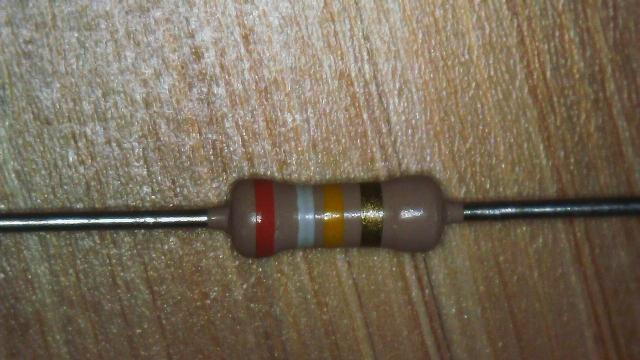gold: (360, 182, 383, 247)
orange: (255, 179, 274, 256)
resistor: (201, 152, 466, 274)
white: (296, 185, 314, 246)
yellow: (323, 184, 344, 247)
